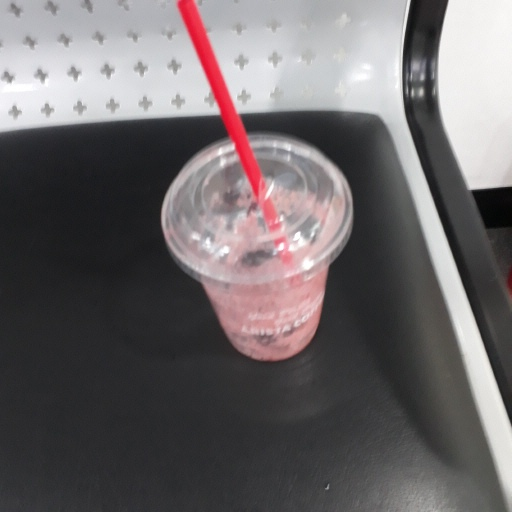Plastic_2: (158, 4, 356, 362)
